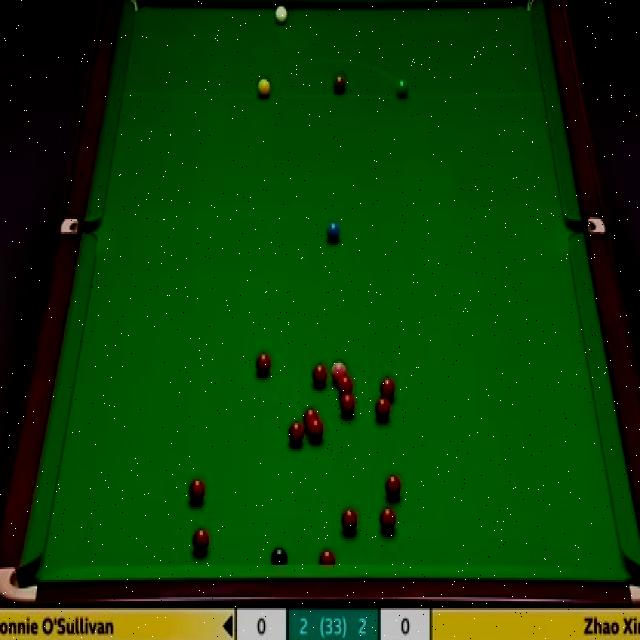black-ball: (270, 543, 288, 569)
blue-ball: (327, 222, 341, 243)
brown-ball: (332, 76, 346, 97)
green-ball: (394, 77, 410, 99)
pink-ball: (331, 358, 346, 383)
red-ball: (378, 505, 398, 535), (383, 473, 402, 501), (341, 506, 359, 534), (188, 477, 206, 504), (254, 350, 271, 378), (192, 526, 209, 553), (339, 392, 356, 419), (311, 362, 328, 388), (288, 420, 304, 446), (375, 396, 391, 422), (308, 416, 324, 441), (379, 375, 396, 398), (337, 376, 353, 396), (318, 548, 335, 566), (303, 408, 318, 426)
white-ball: (273, 5, 289, 28)
yellow-ball: (257, 74, 270, 98)
